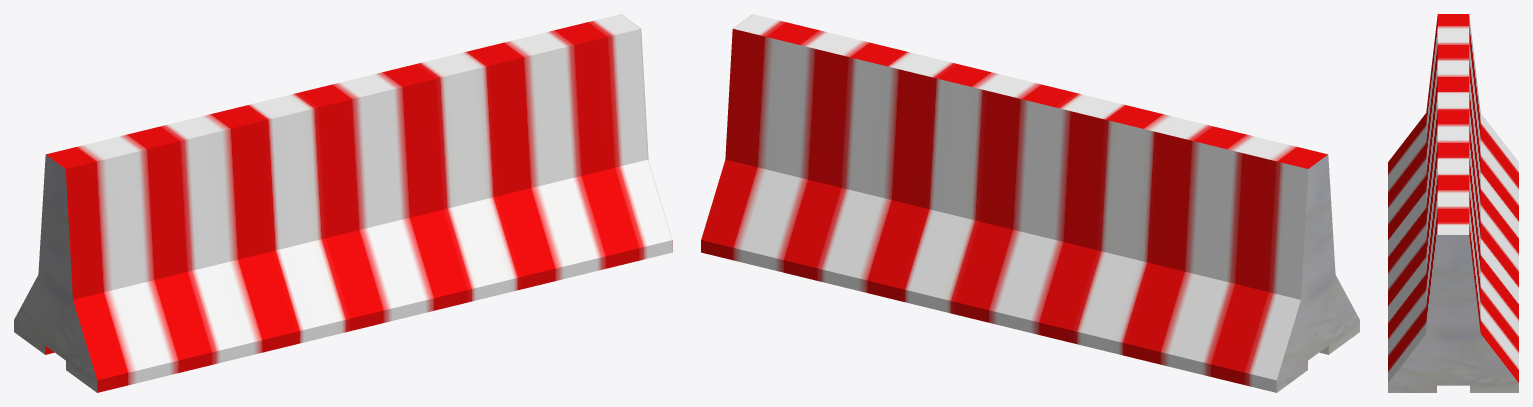
The model's file is barier_2.fbx.
The picture shows the model from 3 angles, left to right: view 1: azimuth 30°, elevation 25°; view 2: azimuth 150°, elevation 25°; view 3: azimuth 270°, elevation 25°; orthographic projection. The views are drawn at different scales.
Visible parts, largest first — view 1: Barricada_Concreto__6; view 2: Barricada_Concreto__6; view 3: Barricada_Concreto__6.
Part boxes in pixels (x1=…): Barricada_Concreto__6: x1=14, y1=14, x2=672, y2=392; Barricada_Concreto__6: x1=701, y1=14, x2=1359, y2=392; Barricada_Concreto__6: x1=1388, y1=14, x2=1518, y2=392.
Size of the model in its own units: 124 by 41.37 by 31.03.
